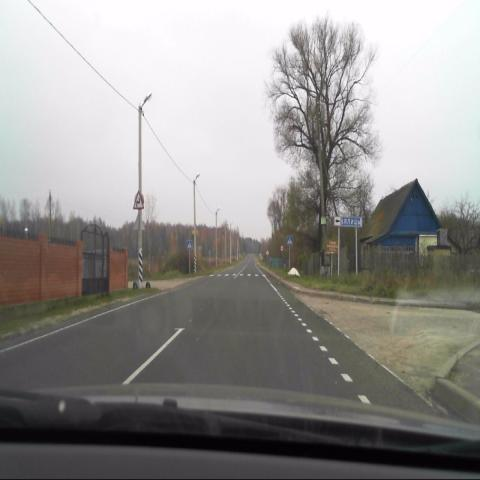1_12: (132, 190, 144, 209)
5_19_1: (285, 234, 293, 246), (186, 237, 192, 250)
